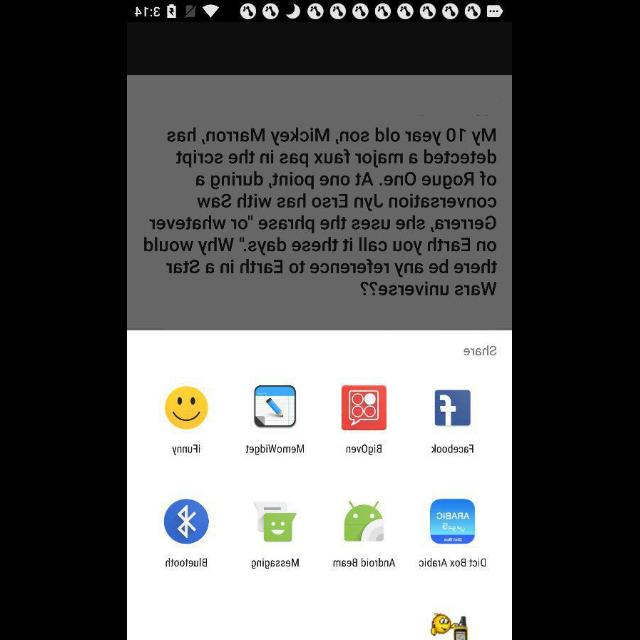icon: (164, 500, 210, 544), (254, 385, 296, 427), (434, 389, 472, 426)
image: (430, 498, 476, 544), (342, 386, 388, 430), (165, 386, 209, 430), (252, 502, 298, 542), (346, 500, 384, 542), (432, 614, 474, 640)
panel: (128, 332, 512, 640)
text: (144, 128, 498, 296), (246, 443, 304, 455), (252, 557, 300, 569), (419, 558, 486, 566), (334, 558, 396, 566), (346, 444, 382, 456), (432, 444, 474, 454), (172, 444, 202, 456), (464, 346, 498, 356), (166, 558, 208, 566)
uppertaskbar: (128, 1, 512, 23)
